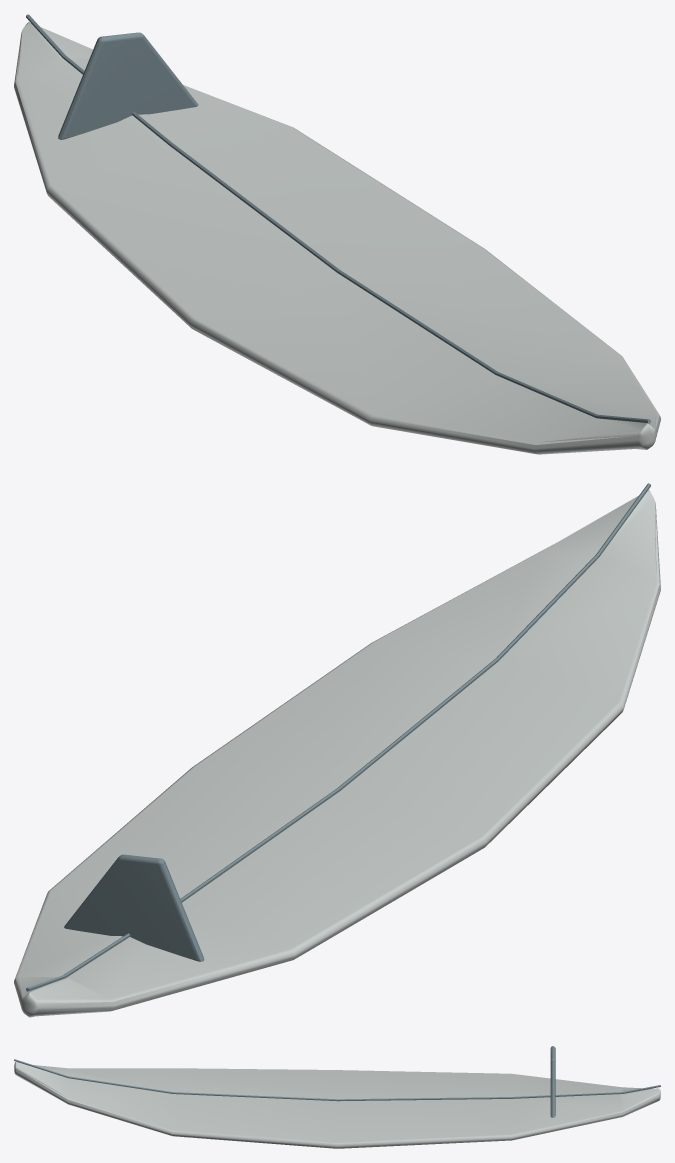
File: surfboard.glb
3 views of the same model, one above another, from view 1: azimuth 30°, elevation 25°; view 2: azimuth 150°, elevation 25°; view 3: azimuth 270°, elevation 25° (orthographic). The views are drawn at different scales.
Parts seen in each view (by area): view 1: shaped_board, tail_fin, centre_stringer; view 2: shaped_board, tail_fin, centre_stringer; view 3: shaped_board, centre_stringer, tail_fin.
Part boxes in pixels (left/top/right/bottom): shaped_board: left=14, top=22, right=660, bottom=454; tail_fin: left=58, top=32, right=198, bottom=139; centre_stringer: left=26, top=14, right=650, bottom=423; shaped_board: left=14, top=489, right=660, bottom=1017; tail_fin: left=64, top=854, right=204, bottom=961; centre_stringer: left=26, top=483, right=650, bottom=991; shaped_board: left=14, top=1061, right=660, bottom=1148; centre_stringer: left=14, top=1059, right=660, bottom=1101; tail_fin: left=550, top=1046, right=555, bottom=1117.
Bounding box in the file's own units: 0.56 × 0.2141 × 2.04.
